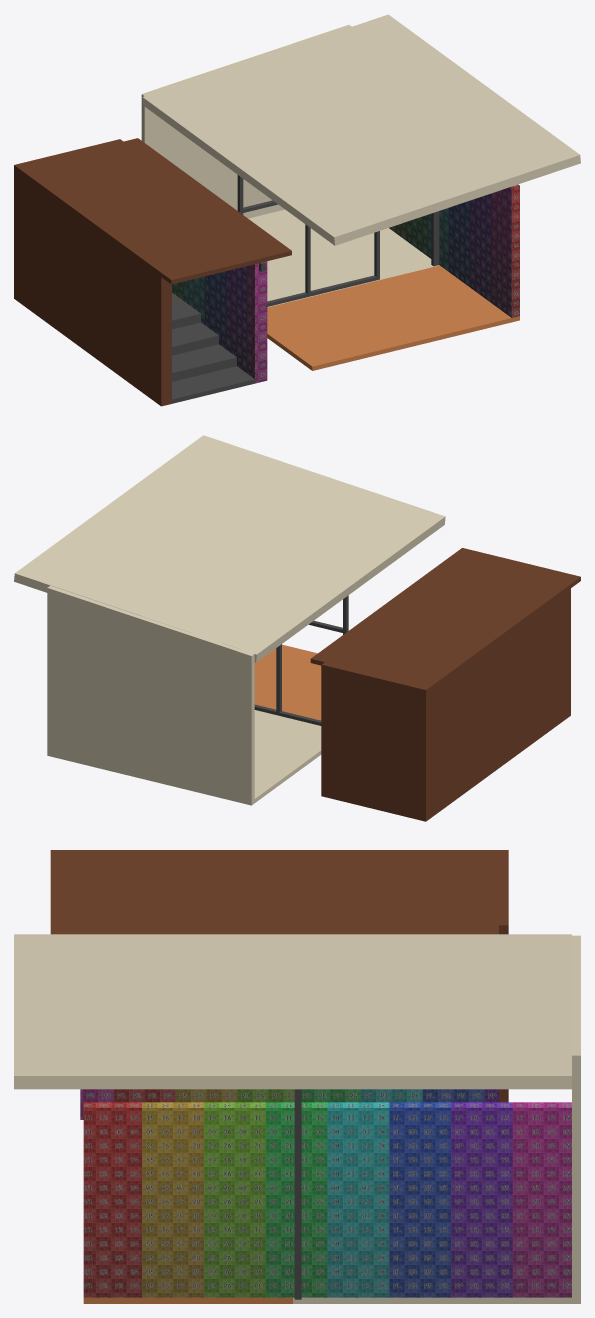
Rendered from Entry-Wall.glb.
3 views of the same model, one above another, from view 1: azimuth 30°, elevation 25°; view 2: azimuth 150°, elevation 25°; view 3: azimuth 270°, elevation 25° (orthographic). The views are drawn at different scales.
Visible parts, largest first — view 1: entry_wall2, entry_wall1, main_change2, main_change; view 2: entry_wall2, entry_wall1; view 3: entry_wall2, main_change2, entry_wall1, main_change.
Boxes of the visible parts, x1,y1,x2,y2 form: entry_wall2: (141, 14, 580, 370); entry_wall1: (14, 138, 291, 406); main_change2: (389, 184, 519, 317); main_change: (172, 261, 267, 383); entry_wall2: (14, 435, 445, 805); entry_wall1: (310, 548, 580, 821); entry_wall2: (14, 934, 580, 1303); main_change2: (83, 1102, 571, 1297); entry_wall1: (50, 850, 508, 1102); main_change: (80, 1089, 498, 1119).
Size of the model in its own units: 9.56 by 4.01 by 8.13.
9 materials, 2 textured.
